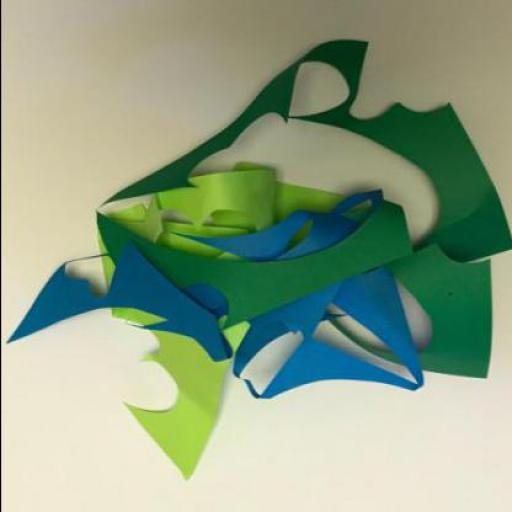paper: (96, 40, 510, 330), (6, 192, 424, 401), (90, 205, 250, 483), (145, 162, 374, 258)
